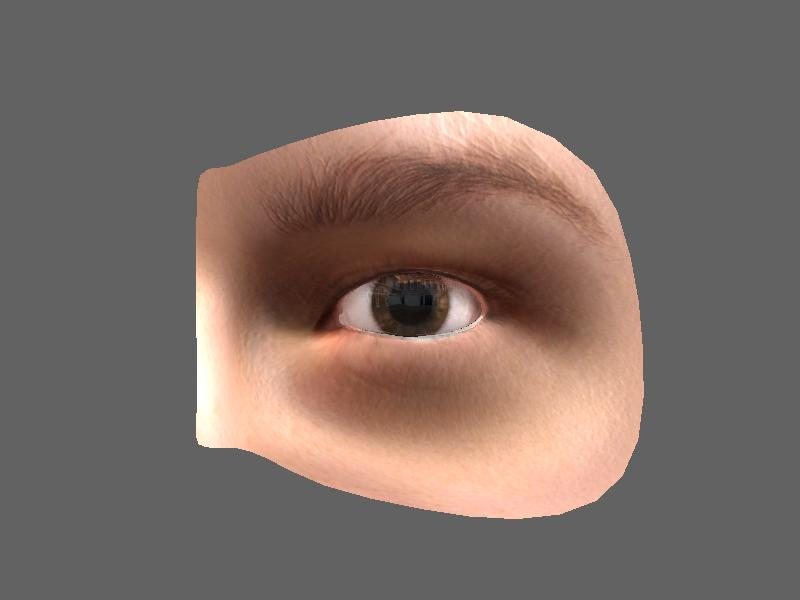iris: (366, 277, 455, 337)
